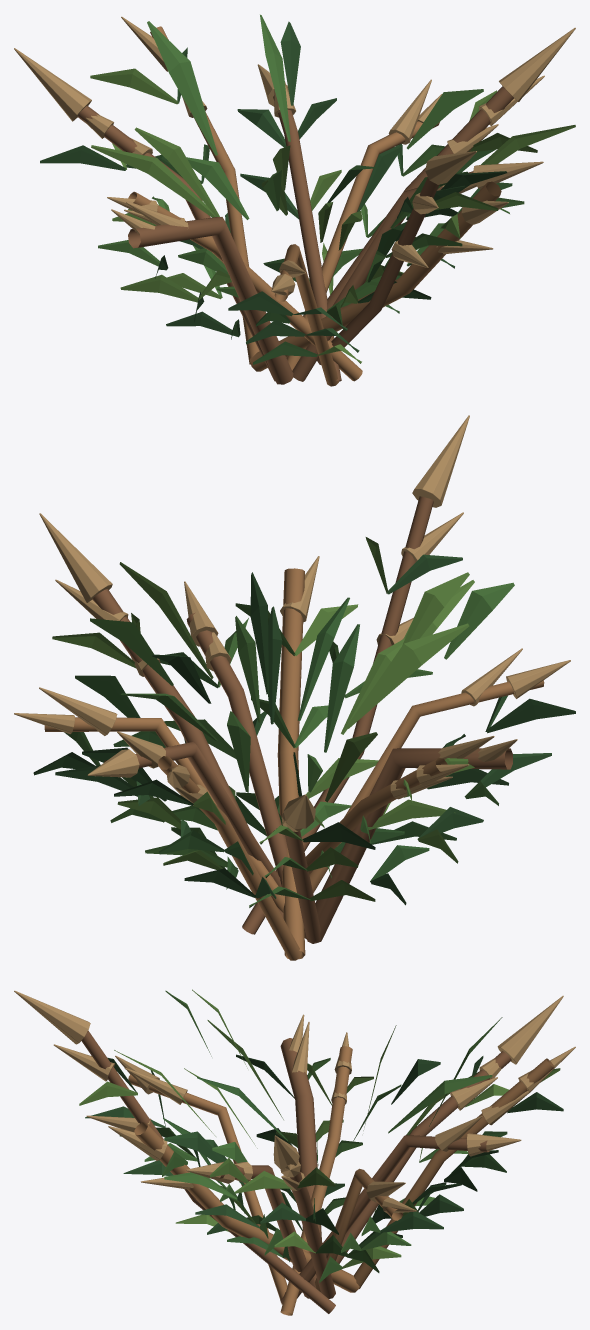
Rendered from moita_espinhosa.glb.
3 renders of one model, top to bottom at view 1: azimuth 30°, elevation 25°; view 2: azimuth 150°, elevation 25°; view 3: azimuth 270°, elevation 25°, orthographic. The views are drawn at different scales.
Visible parts, largest first — view 1: Vegetação | Galhos | madeira castanha, Vegetação | Espinhos | pontas de madeira, Vegetação | Folhas | verde novo, Vegetação | Galhos | luz da casca, Vegetação | Folhas | verde bosque, Vegetação | Folhas | sombra, Vegetação | Folhas | verde profundo; view 2: Vegetação | Galhos | madeira castanha, Vegetação | Espinhos | pontas de madeira, Vegetação | Folhas | verde novo, Vegetação | Galhos | luz da casca, Vegetação | Folhas | sombra, Vegetação | Folhas | verde bosque, Vegetação | Folhas | verde profundo; view 3: Vegetação | Espinhos | pontas de madeira, Vegetação | Galhos | madeira castanha, Vegetação | Galhos | luz da casca, Vegetação | Folhas | sombra, Vegetação | Folhas | verde bosque, Vegetação | Folhas | verde novo, Vegetação | Folhas | verde profundo.
Boxes of the visible parts, box(x1,y1,x2,y2) form: Vegetação | Galhos | madeira castanha: box(77, 86, 513, 384); Vegetação | Espinhos | pontas de madeira: box(14, 16, 575, 295); Vegetação | Folhas | verde novo: box(90, 68, 575, 363); Vegetação | Galhos | luz da casca: box(128, 26, 501, 386); Vegetação | Folhas | verde bosque: box(98, 14, 524, 330); Vegetação | Folhas | sombra: box(40, 21, 507, 352); Vegetação | Folhas | verde profundo: box(126, 144, 512, 364); Vegetação | Galhos | madeira castanha: box(92, 496, 512, 943); Vegetação | Espinhos | pontas de madeira: box(14, 415, 570, 831); Vegetação | Folhas | verde novo: box(52, 537, 474, 901); Vegetação | Galhos | luz da casca: box(44, 568, 544, 960); Vegetação | Folhas | sombra: box(33, 554, 575, 905); Vegetação | Folhas | verde bosque: box(64, 582, 514, 907); Vegetação | Folhas | verde profundo: box(75, 597, 456, 889); Vegetação | Espinhos | pontas de madeira: box(14, 990, 575, 1213); Vegetação | Galhos | madeira castanha: box(81, 1030, 511, 1313); Vegetação | Galhos | luz da casca: box(128, 1046, 554, 1315); Vegetação | Folhas | sombra: box(85, 1054, 563, 1234); Vegetação | Folhas | verde bosque: box(144, 990, 502, 1282); Vegetação | Folhas | verde novo: box(79, 989, 560, 1268); Vegetação | Folhas | verde profundo: box(163, 1077, 507, 1261).
Size of the model in its own units: 0.7271 by 0.5418 by 0.8767.
